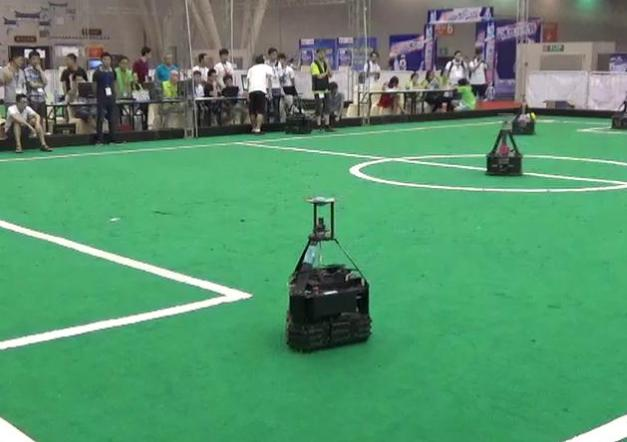robot: (280, 186, 377, 354), (481, 109, 526, 180)
